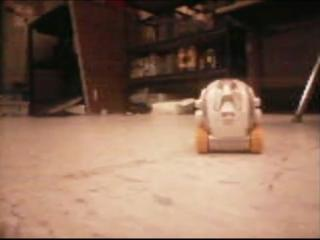cozmo: (193, 77, 264, 154)
